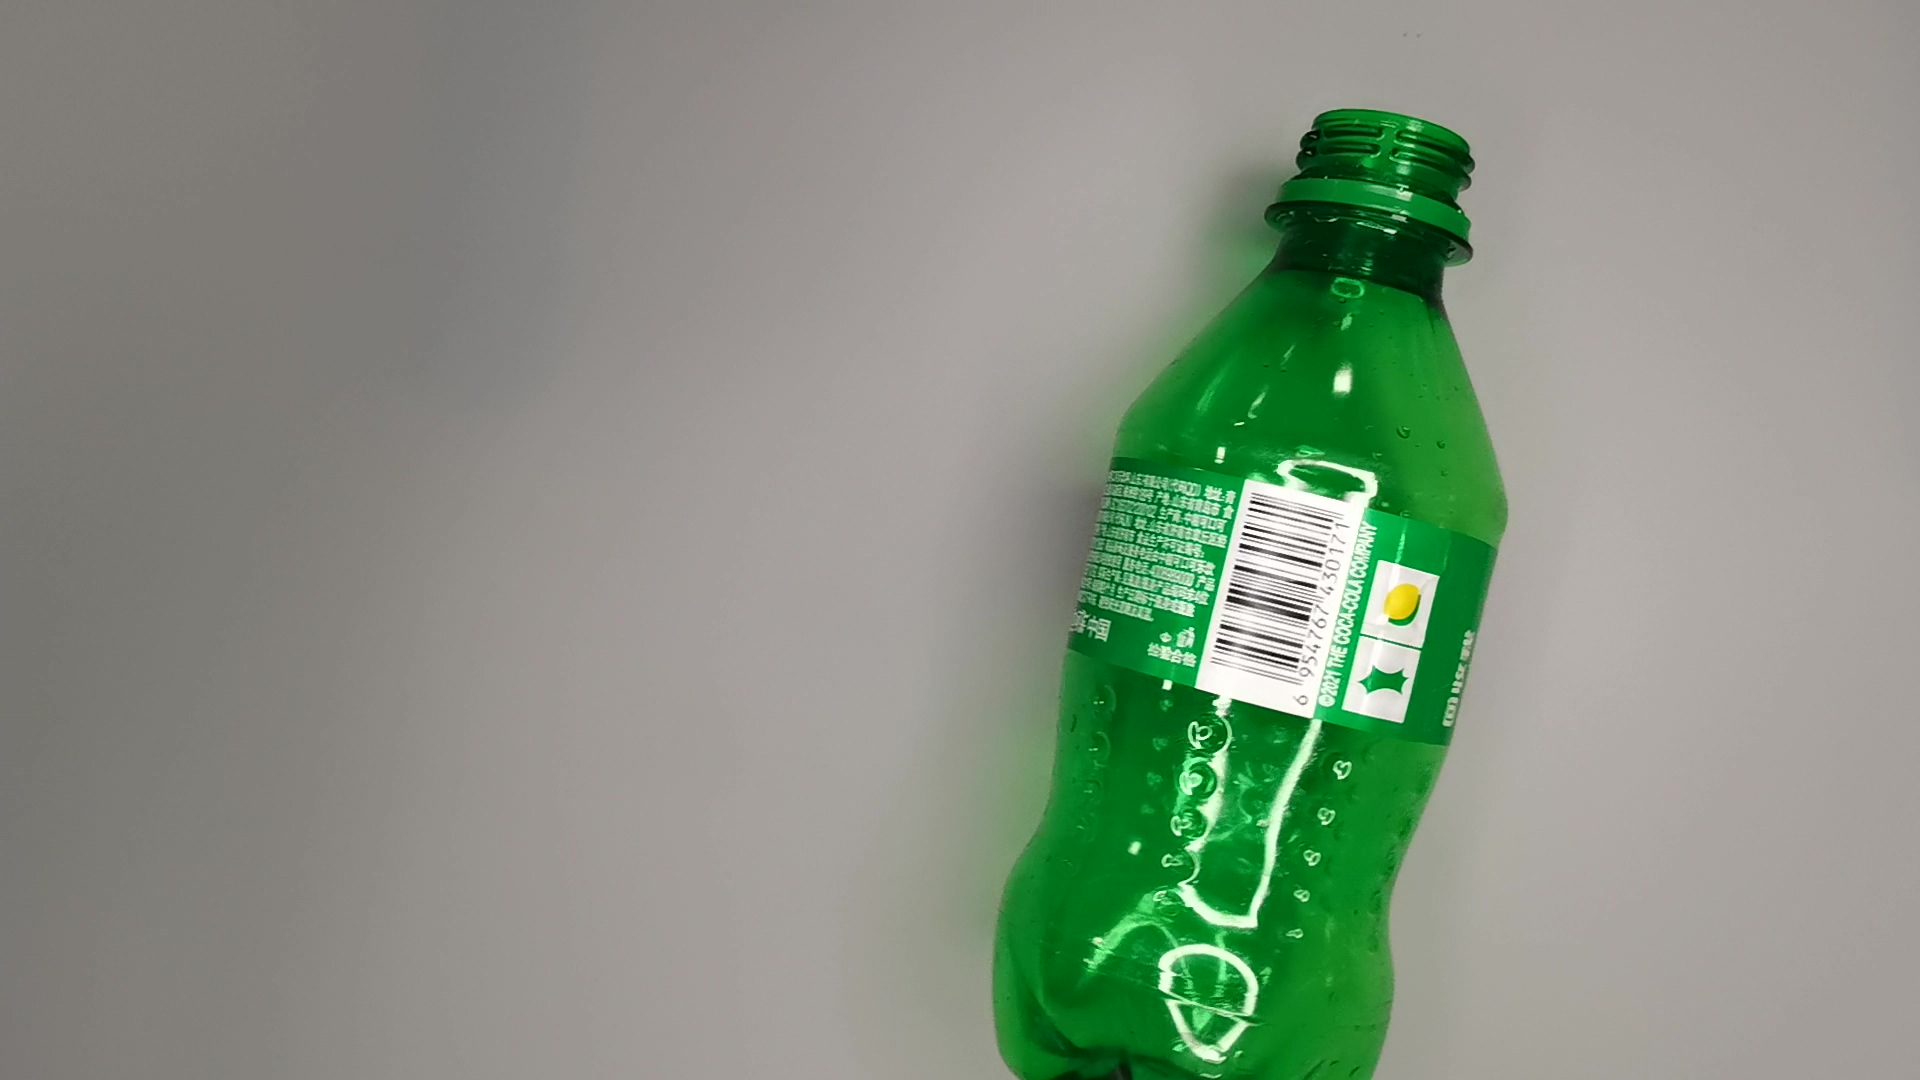bottle: (967, 108, 1506, 1080)
